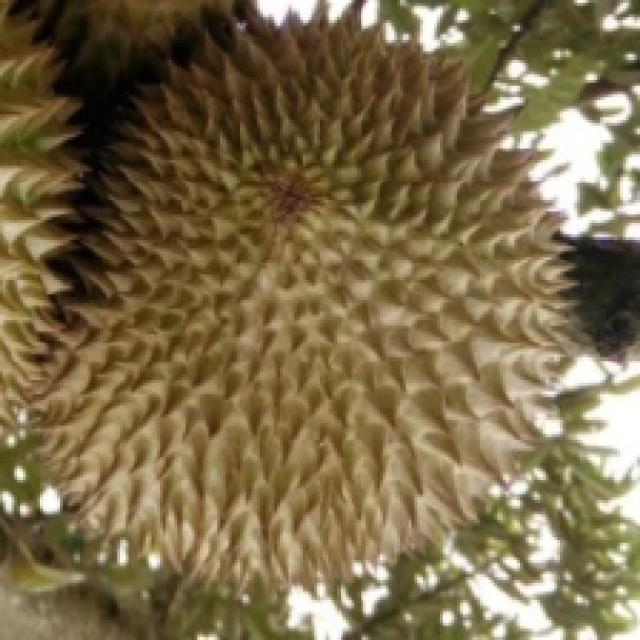d175: (72, 14, 562, 574)
